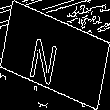N_N: (38, 26, 72, 84)
